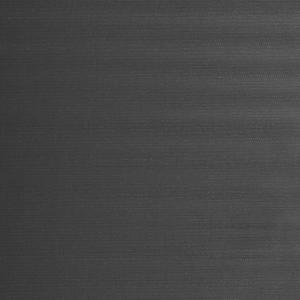Wrinkle: (133, 1, 300, 300)
